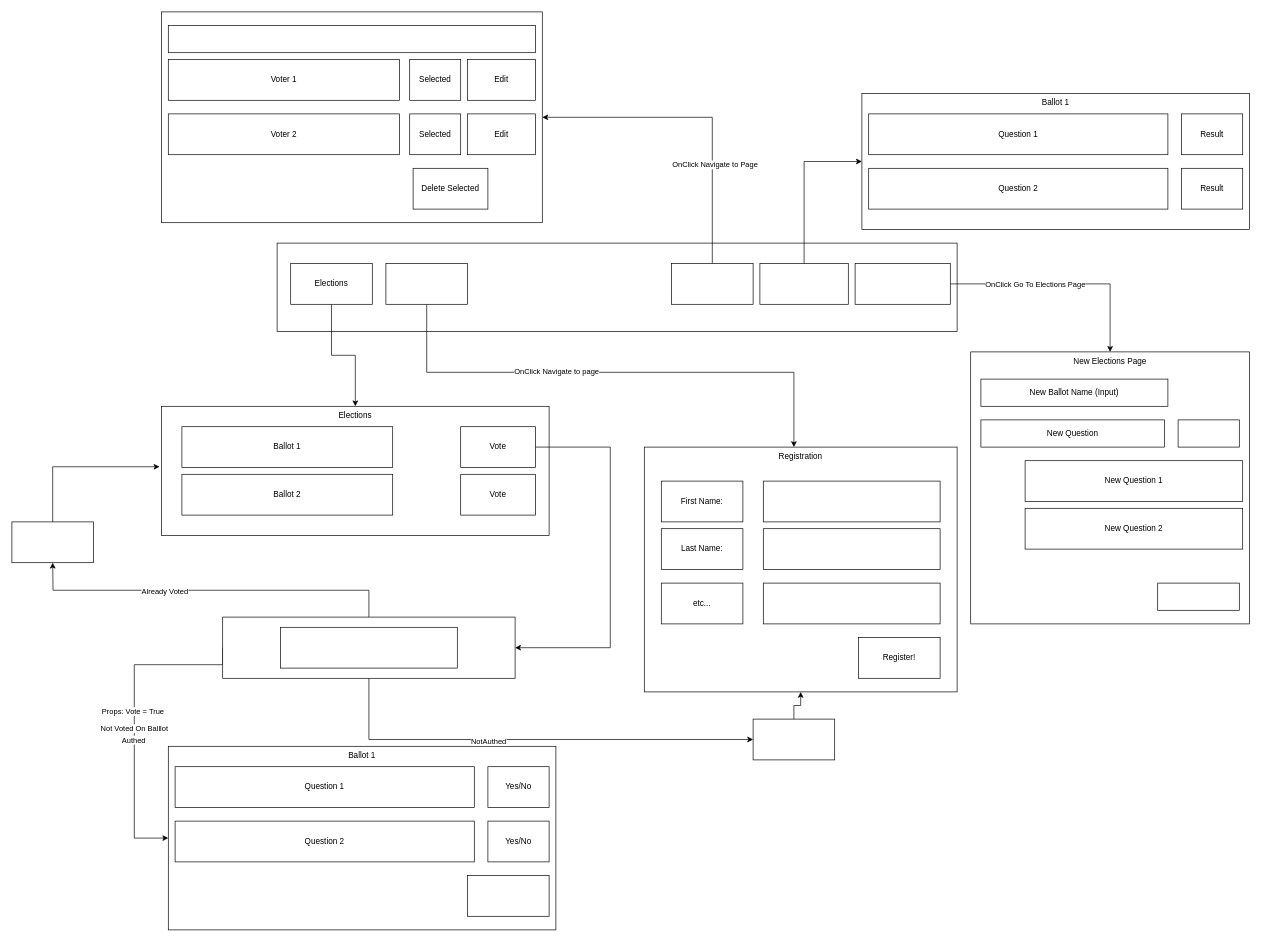
Some shapes in this 1261 by 942 pixel diagram are drawn without their labels. Each missing label, with the centre of its shape:
"(Admin) New Election +" goes at (x=902, y=283).
"(Admin) View Results" goes at (x=803, y=283).
"(Admin)View Voters" goes at (x=712, y=283).
"Add This Question" goes at (x=1208, y=433).
"Cast Votes" goes at (x=508, y=895).
"Columns (first, last, actions, etc...)" goes at (x=352, y=39).
"Error Sorry You're not Authed Click Here to Register" goes at (x=793, y=739).
"Save Ballot" goes at (x=1198, y=596).
"Sorry: You've already voted on this ballot." goes at (x=52, y=542).
"User Name" goes at (x=368, y=647).
"Voter Registration" goes at (x=426, y=283).
